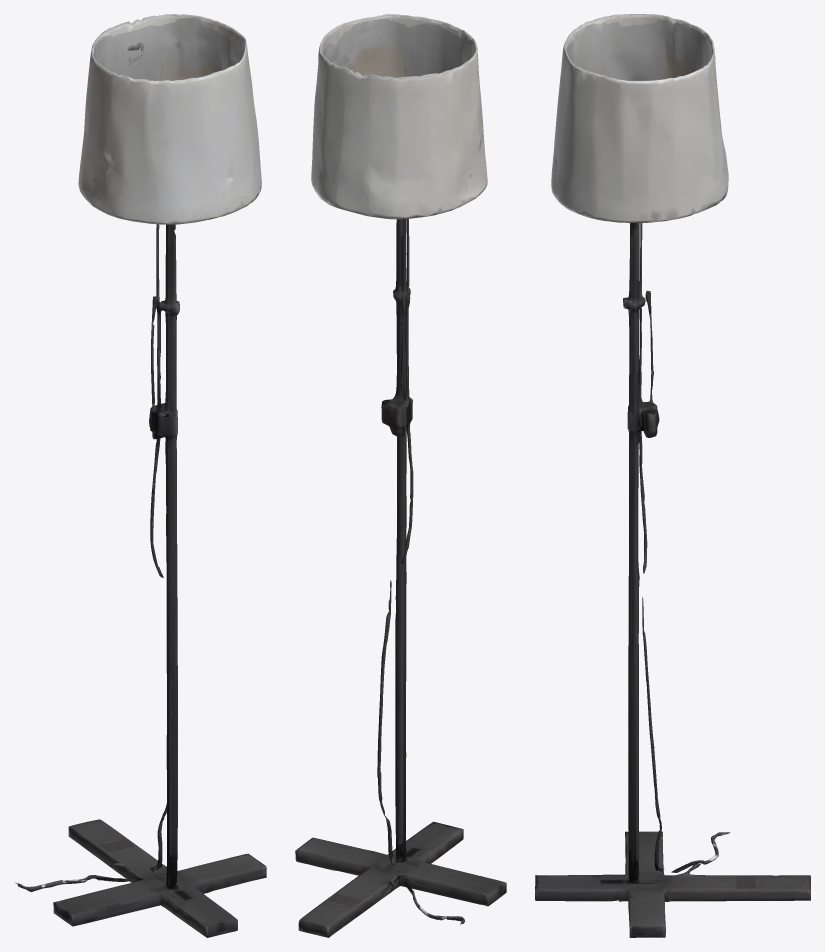
File: lamp.glb
3 views of the same model, side by side, from view 1: azimuth 30°, elevation 25°; view 2: azimuth 150°, elevation 25°; view 3: azimuth 270°, elevation 25° (orthographic). The views are drawn at different scales.
Size of the model in its own units: 0.4993 by 2 by 0.5909.
1 material, 1 textured.
